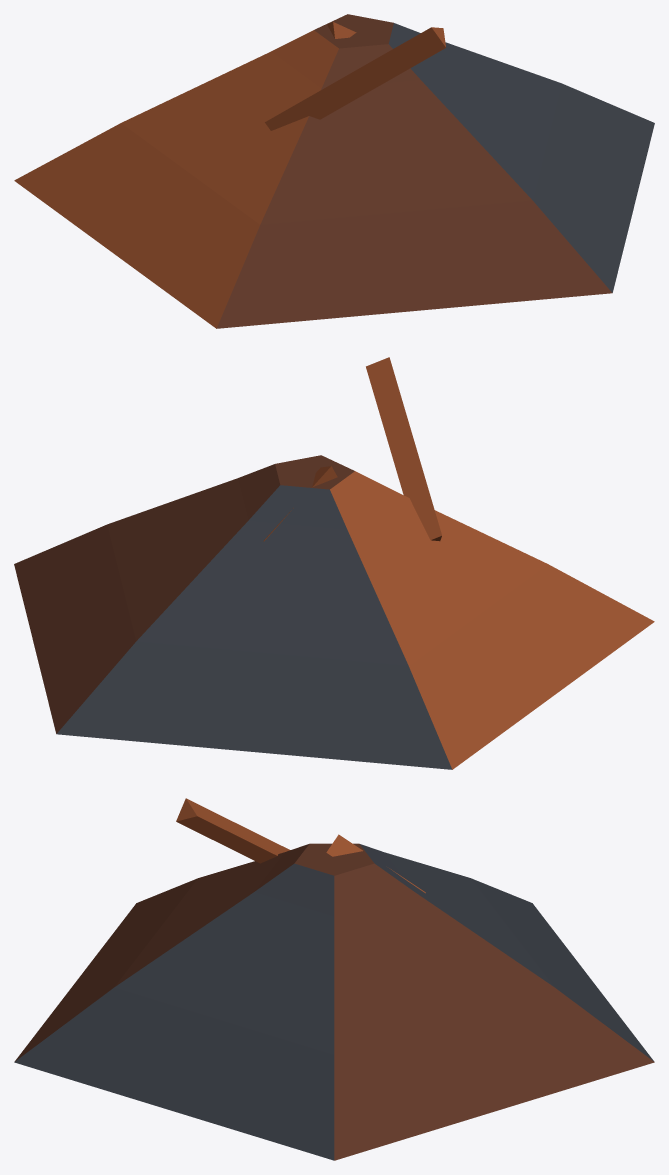
The model's file is SM_Prop_ScrapPile_LQ.glb.
3 renders of one model, top to bottom at view 1: azimuth 30°, elevation 25°; view 2: azimuth 150°, elevation 25°; view 3: azimuth 270°, elevation 25°, orthographic. The views are drawn at different scales.
Parts seen in each view (by area): view 1: SM_Prop_ScrapPile_LQ; view 2: SM_Prop_ScrapPile_LQ; view 3: SM_Prop_ScrapPile_LQ.
Boxes of the visible parts, <box> form: SM_Prop_ScrapPile_LQ: <box>14,14,654,328</box>; SM_Prop_ScrapPile_LQ: <box>14,357,654,769</box>; SM_Prop_ScrapPile_LQ: <box>14,798,654,1160</box>.
Size of the model in its own units: 1.45 by 0.5752 by 1.52.
1 material, 1 textured.
